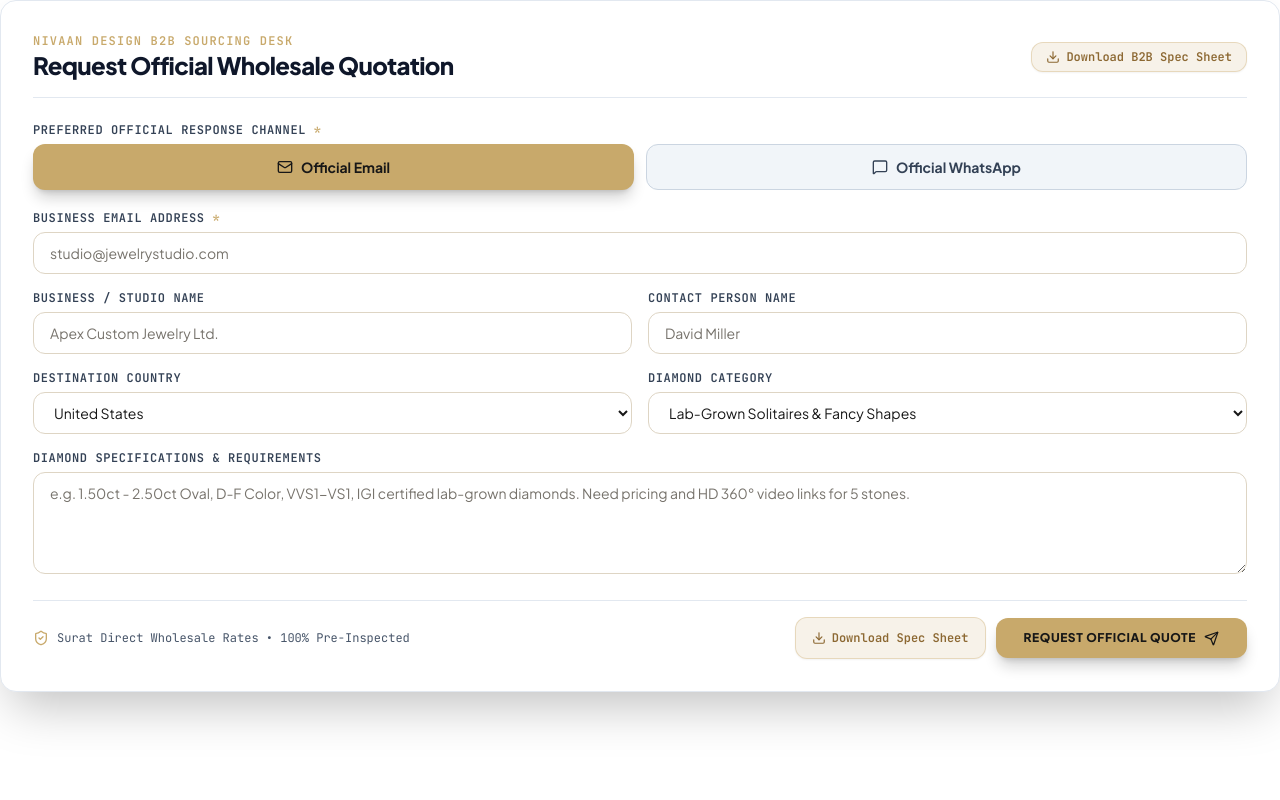
Test: B2B Quote Form Component › should render required email field by default and toggle to whatsapp field when selected
Expected: the field labelled "Business Email Address *" is shown, [33,232,1247,274]
Expected: the field labelled "WhatsApp Phone Number" is not shown
# Switch channel to WhatsApp
Step 1. Click the button "Official WhatsApp" → (946, 167), box [646,144,1247,190]
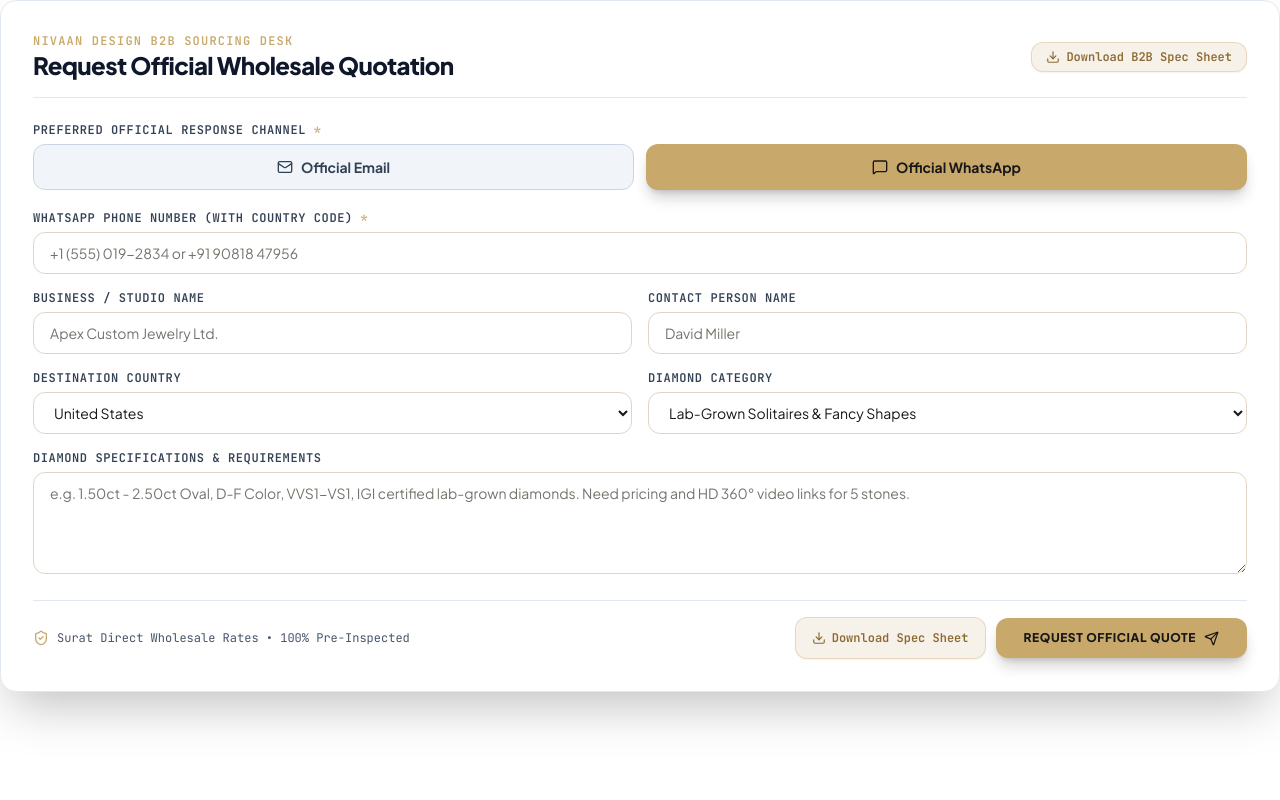
Expected: the field labelled "WhatsApp Phone Number (with Country Code) *" is shown, [33,232,1247,274]
Now the label labelled "Business Email Address" is gone
